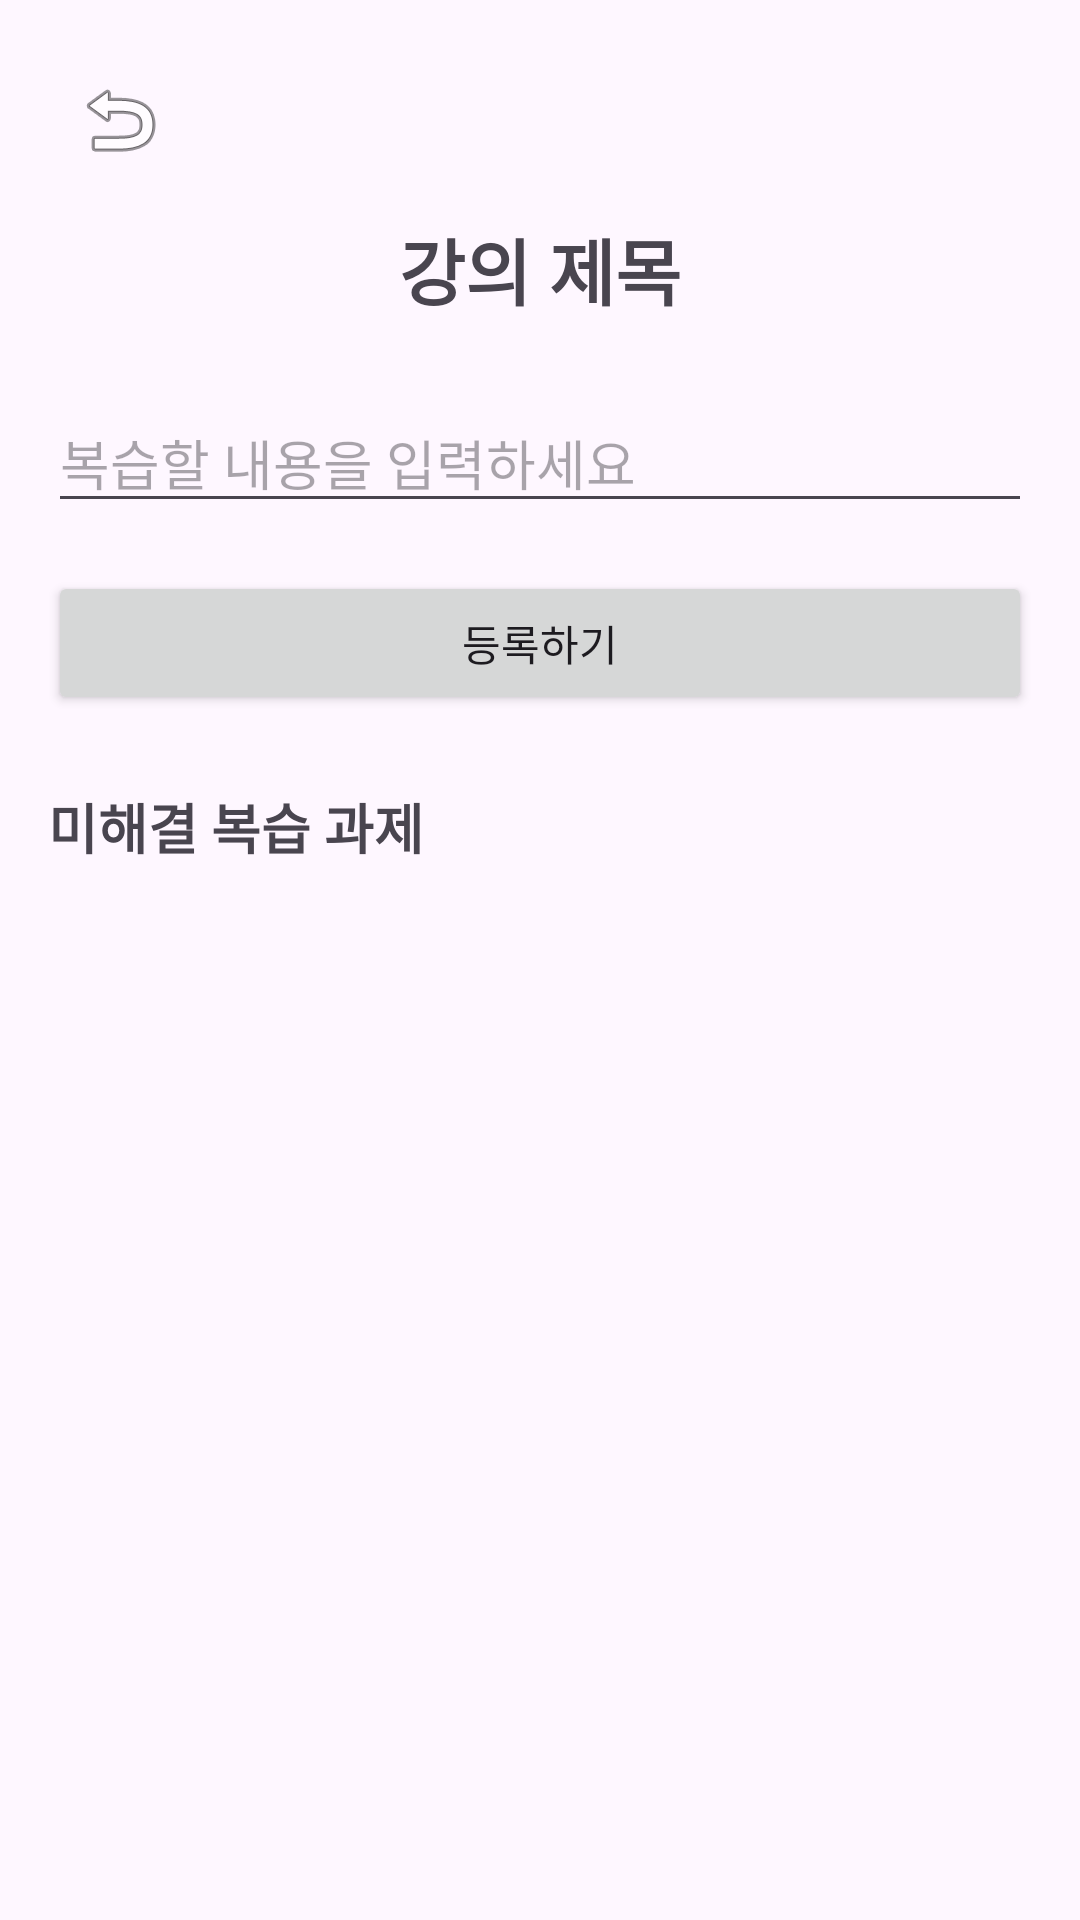

Screen size 1080px×1920px. Icon name, then its center in pixels as point (x, y):
뒤로가기: point (121, 120)
